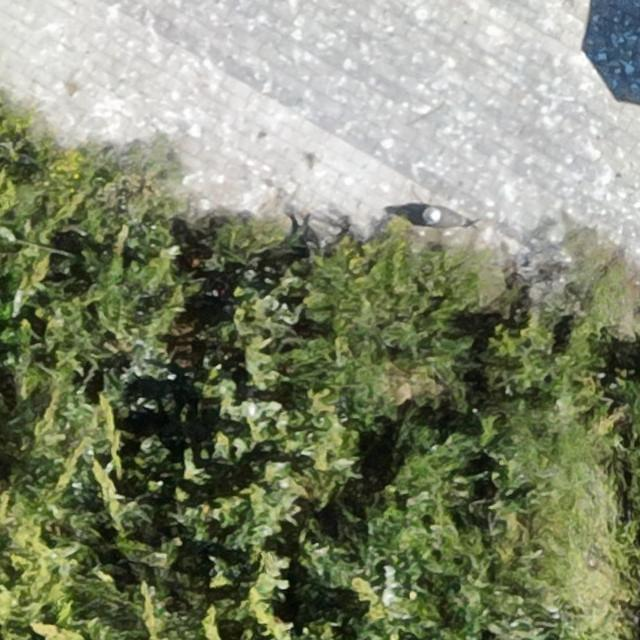umineko: (423, 210, 466, 228)
